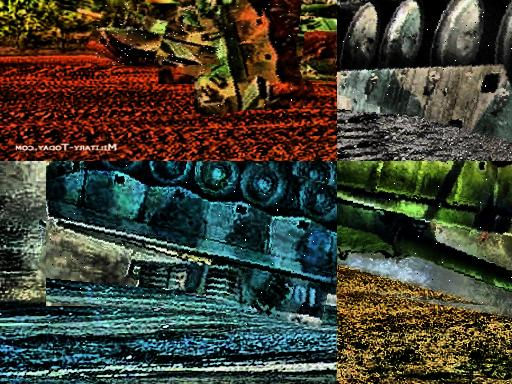tanks: (47, 162, 338, 329), (338, 1, 512, 146), (338, 162, 512, 292), (200, 1, 307, 117), (95, 22, 222, 66), (58, 5, 136, 29), (308, 34, 338, 84), (152, 1, 211, 19)
